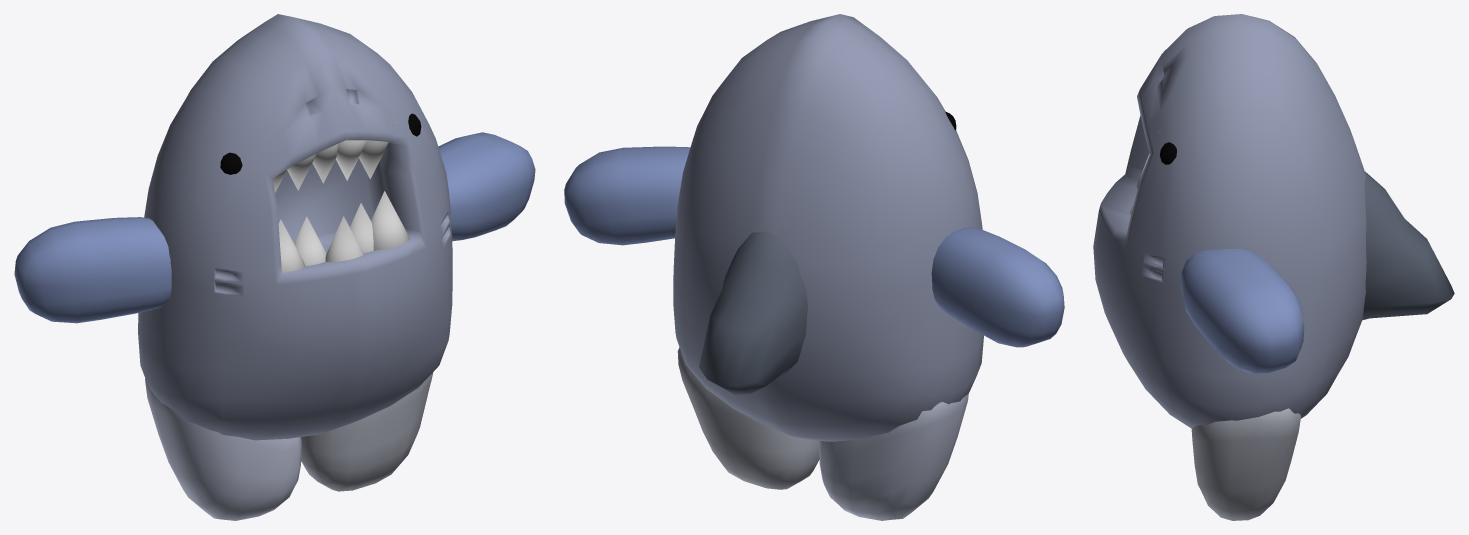
Rendered from babySHARK11.glb.
3 views of the same model, side by side, from view 1: azimuth 30°, elevation 25°; view 2: azimuth 150°, elevation 25°; view 3: azimuth 270°, elevation 25° (orthographic). The views are drawn at different scales.
Visible parts, largest first — view 1: BODY, arm le, leg le, arm ri, leg ri, Cone.009, Cone.007, Cone.005, Cone.006, Cone.004, Cone.008, Cone.003; view 2: BODY, Roundcube, arm le, leg le, arm ri, leg ri; view 3: BODY, arm ri, leg ri, Roundcube.
Part boxes in pixels (x1,y1,x2,y2): BODY: [138, 14, 452, 440]; arm le: [14, 217, 171, 323]; leg le: [145, 378, 301, 520]; arm ri: [438, 132, 535, 241]; leg ri: [301, 372, 433, 491]; Cone.009: [371, 191, 409, 250]; Cone.007: [325, 216, 363, 261]; Cone.005: [294, 216, 326, 265]; Cone.006: [278, 219, 305, 272]; Cone.004: [336, 140, 367, 180]; Cone.008: [350, 203, 373, 252]; Cone.003: [359, 122, 397, 179]; BODY: [673, 14, 983, 441]; Roundcube: [699, 231, 807, 394]; arm le: [931, 227, 1064, 347]; leg le: [819, 394, 968, 520]; arm ri: [564, 146, 690, 245]; leg ri: [677, 347, 819, 489]; BODY: [1093, 14, 1366, 428]; arm ri: [1180, 248, 1304, 373]; leg ri: [1191, 408, 1300, 520]; Roundcube: [1362, 171, 1454, 320].
Size of the model in its own units: 4.01 by 3.69 by 2.55.
